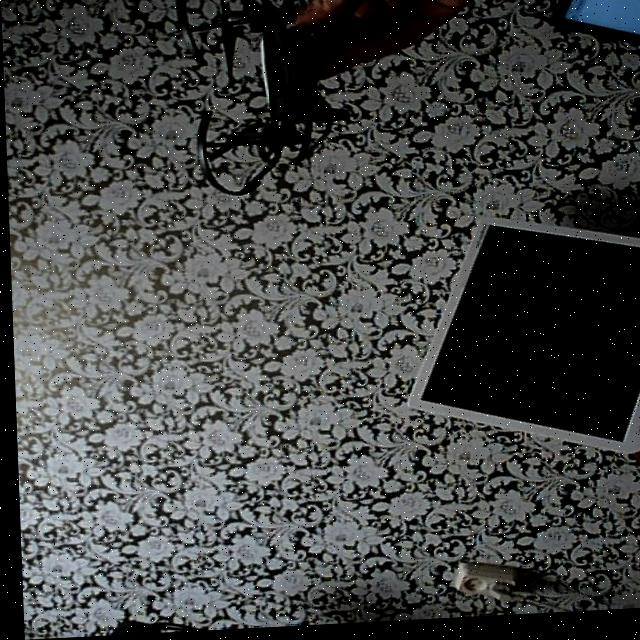drone: (140, 0, 358, 204)
